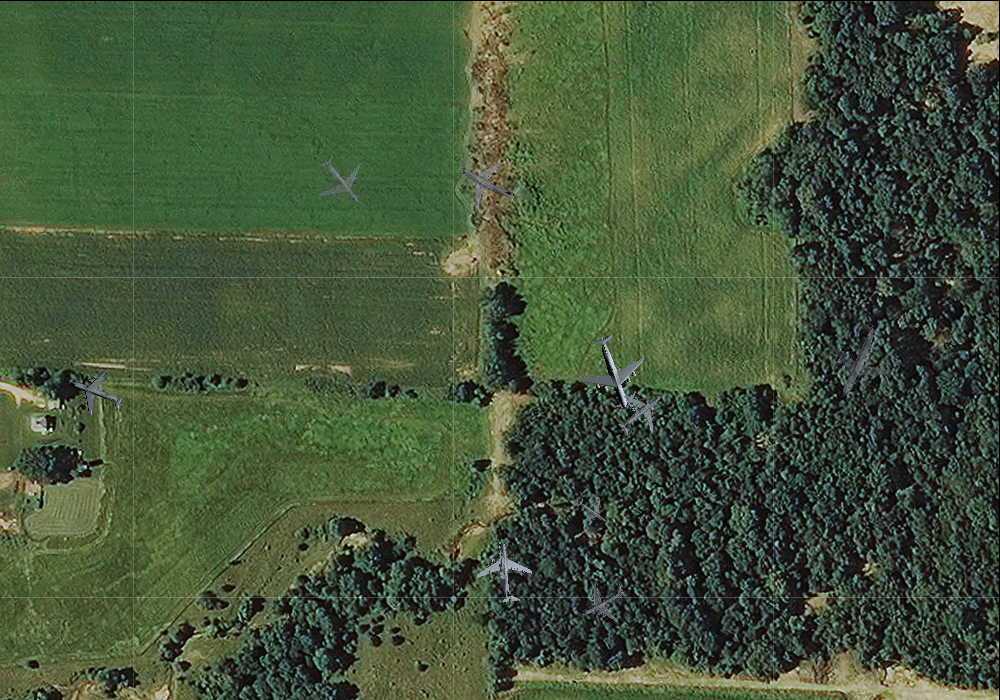plane: (809, 310, 908, 410), (567, 324, 658, 418), (445, 139, 531, 224), (303, 143, 379, 219), (605, 377, 677, 449), (60, 359, 130, 428), (473, 536, 539, 605), (571, 571, 635, 634), (569, 488, 615, 534), (606, 380, 645, 419)
